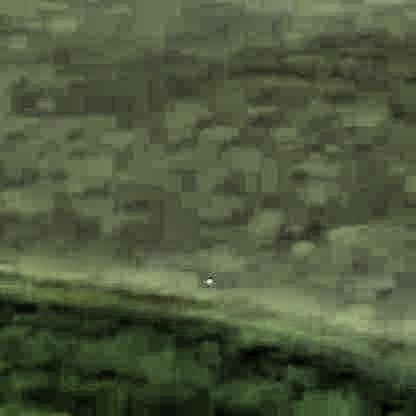golfball: (202, 273, 212, 284)
